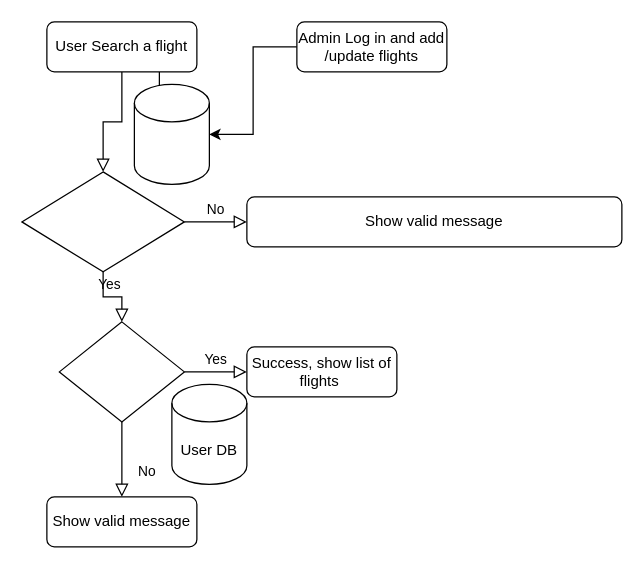
Some shapes in this 644 by 569 pixel diagram are drawn without their labels. Here are the shapes that lost their labels. From the top down, the centre of each, then its label:
At (171,133): "Flight DB".
At (102,221): "Flight available?".
At (121,371): "User Login".
